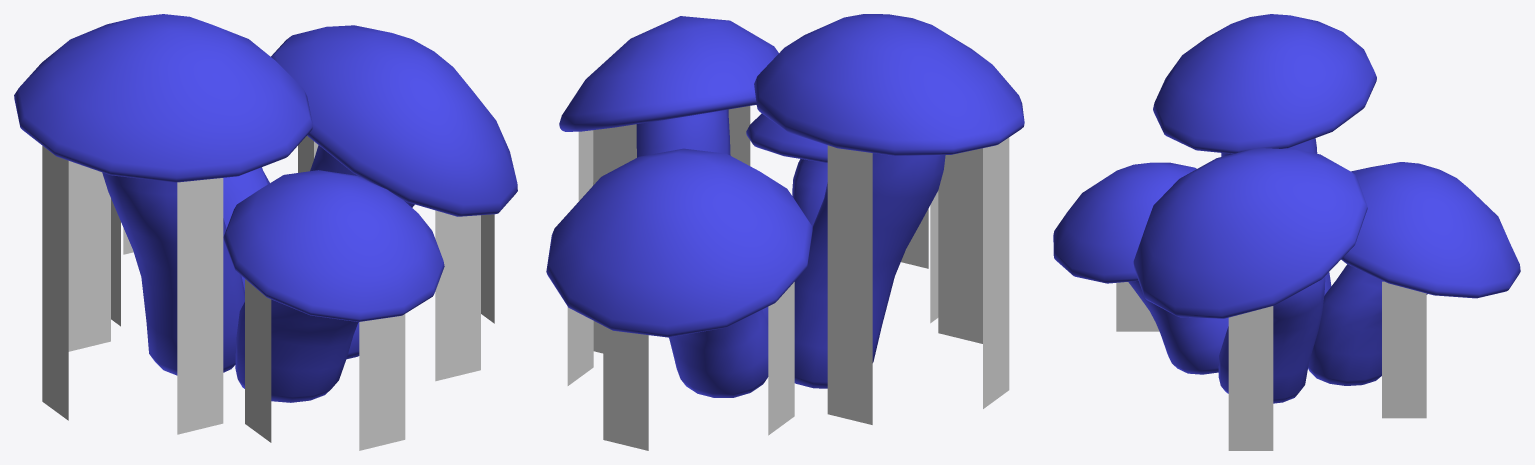
Rendered from Mushroom_Final.fbx.
The picture shows the model from 3 angles, left to right: view 1: azimuth 30°, elevation 25°; view 2: azimuth 150°, elevation 25°; view 3: azimuth 270°, elevation 25°; orthographic projection. The views are drawn at different scales.
Parts seen in each view (by area): view 1: Cylinder.001, Plane.010, Plane.009, Plane.004, Plane.001, Plane.003, Plane.005, Plane, Plane.007, Plane.008; view 2: Cylinder.001, Plane.009, Plane.010, Plane.001, Plane.002, Plane.007, Plane.006, Plane.008, Plane.004, Plane.005, Plane, Plane.003; view 3: Cylinder.001, Plane, Plane.008, Plane.005.
Part boxes in pixels (bbox=[...]): Cylinder.001: bbox=[14, 14, 517, 402]; Plane.010: bbox=[177, 178, 223, 434]; Plane.009: bbox=[68, 161, 110, 351]; Plane.004: bbox=[435, 210, 480, 381]; Plane.001: bbox=[42, 146, 68, 420]; Plane.003: bbox=[359, 314, 405, 450]; Plane.005: bbox=[245, 279, 271, 442]; Plane: bbox=[481, 214, 494, 323]; Plane.007: bbox=[111, 198, 120, 326]; Plane.008: bbox=[298, 136, 313, 172]; Cylinder.001: bbox=[546, 14, 1024, 397]; Plane.009: bbox=[827, 145, 872, 424]; Plane.010: bbox=[938, 148, 982, 343]; Plane.001: bbox=[983, 137, 1009, 408]; Plane.002: bbox=[603, 326, 648, 450]; Plane.007: bbox=[768, 282, 794, 435]; Plane.006: bbox=[593, 124, 636, 353]; Plane.008: bbox=[567, 307, 593, 385]; Plane.004: bbox=[728, 106, 750, 165]; Plane.005: bbox=[930, 191, 938, 323]; Plane: bbox=[578, 130, 593, 201]; Plane.003: bbox=[901, 209, 928, 268]; Cylinder.001: bbox=[1053, 14, 1520, 403]; Plane: bbox=[1228, 306, 1273, 450]; Plane.008: bbox=[1382, 281, 1426, 418]; Plane.005: bbox=[1116, 282, 1159, 331].
Bounding box in the file's own units: 274 × 209 × 293.
